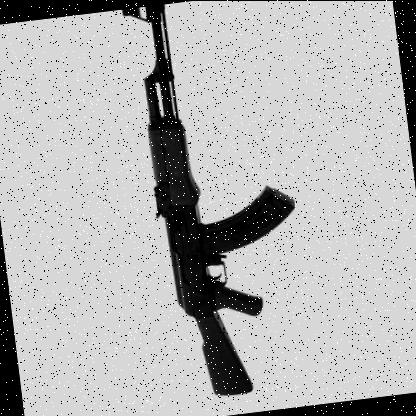rifle: (102, 0, 331, 403)
